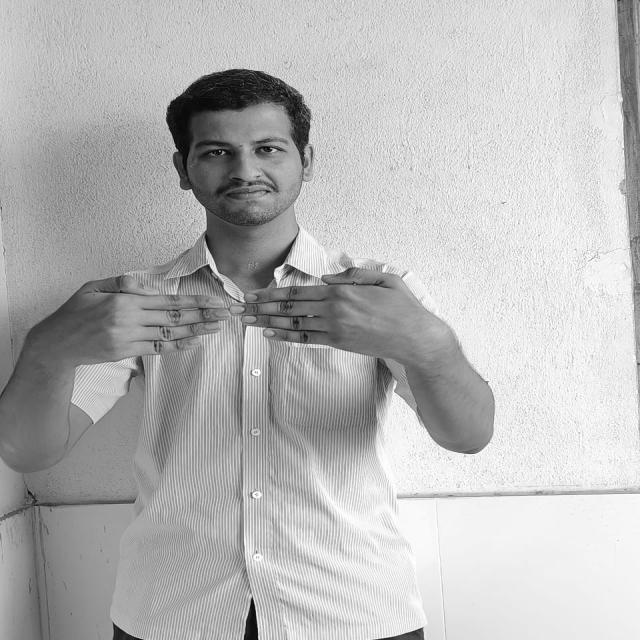Night: (34, 266, 432, 365)
